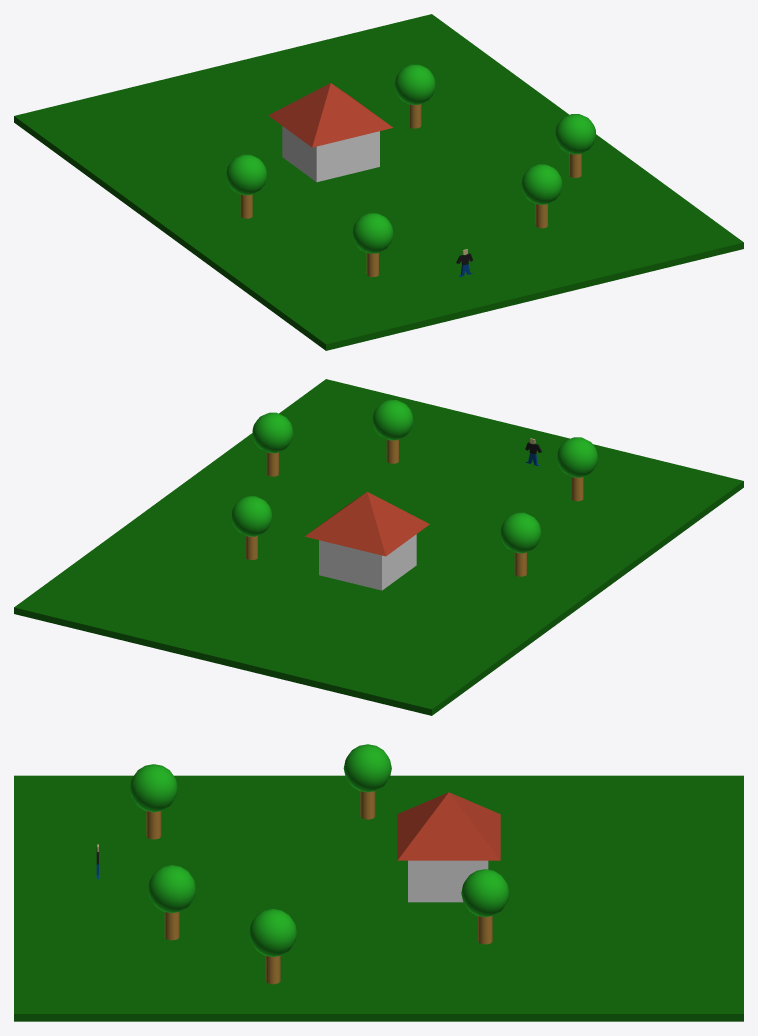
File: house with trees.obj
The picture shows the model from 3 angles, top to bottom: view 1: azimuth 30°, elevation 25°; view 2: azimuth 150°, elevation 25°; view 3: azimuth 270°, elevation 25°; orthographic projection. The views are drawn at different scales.
Parts seen in each view (by area): view 1: Box01, roof, Box02, Sphere05, Sphere02, Sphere03, Sphere04, Sphere01; view 2: Box01, roof, Box02, Sphere03, Sphere01, Sphere05, Sphere02, Sphere04; view 3: Box01, roof, Box02, Sphere03, Sphere05, Sphere04, Sphere02, Sphere01.
Part boxes in pixels (<box>): Box01: <box>14,14,743,350</box>; roof: <box>268,83,393,147</box>; Box02: <box>282,126,379,182</box>; Sphere05: <box>226,154,266,195</box>; Sphere02: <box>352,213,393,253</box>; Sphere03: <box>521,164,562,204</box>; Sphere04: <box>394,64,435,104</box>; Sphere01: <box>555,114,595,154</box>; Box01: <box>14,379,743,715</box>; roof: <box>305,492,429,556</box>; Box02: <box>319,534,416,590</box>; Sphere03: <box>372,399,413,440</box>; Sphere01: <box>252,412,293,453</box>; Sphere05: <box>500,512,541,553</box>; Sphere02: <box>557,437,597,477</box>; Sphere04: <box>231,496,272,536</box>; Box01: <box>14,775,743,1021</box>; roof: <box>397,792,500,860</box>; Box02: <box>408,860,488,902</box>; Sphere03: <box>148,865,195,913</box>; Sphere05: <box>343,744,391,792</box>; Sphere04: <box>461,869,509,917</box>; Sphere02: <box>129,764,177,812</box>; Sphere01: <box>249,909,296,956</box>.
Bounding box in the file's own units: 54.19 × 10.58 × 70.09.
